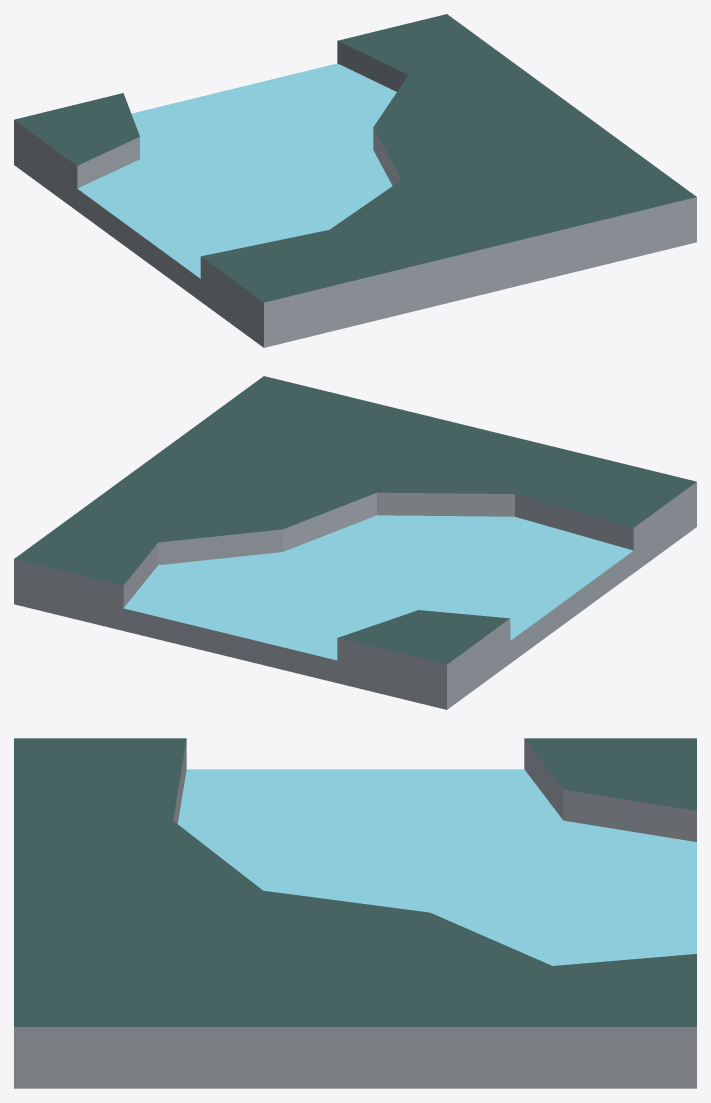
File: Plate_River_Corner_01.obj
The picture shows the model from 3 angles, top to bottom: view 1: azimuth 30°, elevation 25°; view 2: azimuth 150°, elevation 25°; view 3: azimuth 270°, elevation 25°; orthographic projection. The views are drawn at different scales.
Visible parts, largest first — view 1: Mesh1_Plate_River_Corner_Model; view 2: Mesh1_Plate_River_Corner_Model; view 3: Mesh1_Plate_River_Corner_Model.
Boxes of the visible parts, x1,y1,x2,y2 form: Mesh1_Plate_River_Corner_Model: (14, 14, 696, 347); Mesh1_Plate_River_Corner_Model: (14, 376, 696, 709); Mesh1_Plate_River_Corner_Model: (14, 738, 696, 1088).
Bounding box in the file's own units: 3 × 0.3 × 3.
